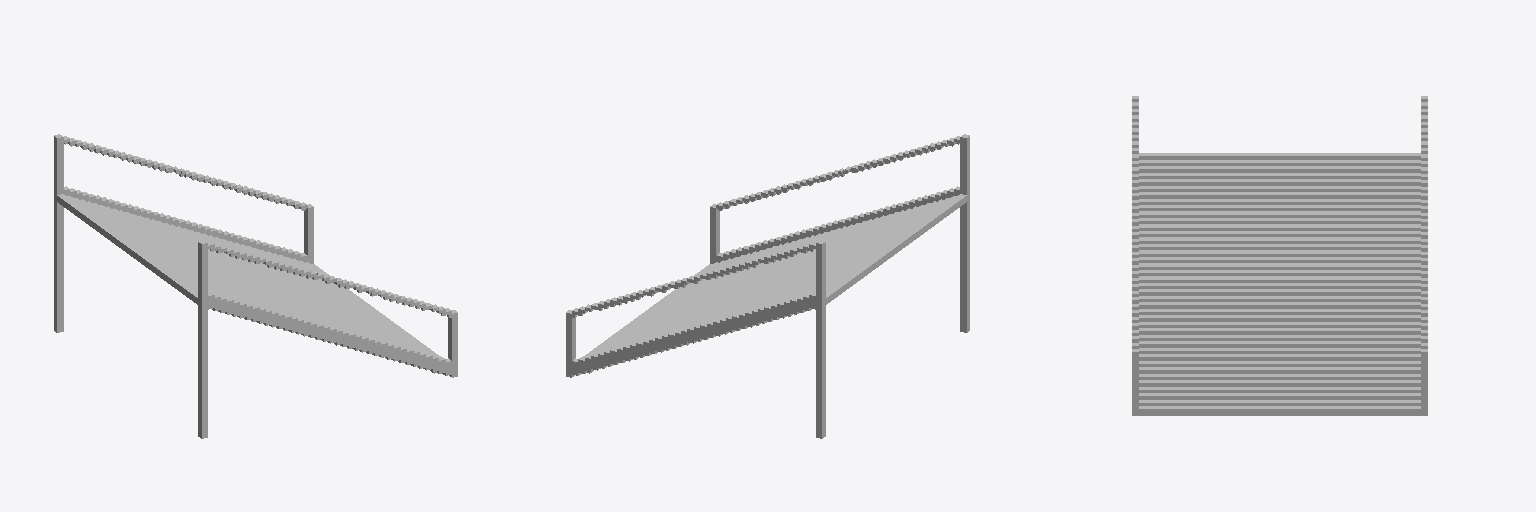
Rendered from Cloud Pedestal-5.obj.
The picture shows the model from 3 angles: view 1: azimuth 30°, elevation 25°; view 2: azimuth 150°, elevation 25°; view 3: azimuth 270°, elevation 25°; orthographic projection.
Parts seen in each view (by area): view 1: object 1; view 2: object 1; view 3: object 1.
Part boxes in pixels (left/top/right/bottom): object 1: left=54, top=134, right=457, bottom=438; object 1: left=566, top=134, right=969, bottom=438; object 1: left=1132, top=96, right=1427, bottom=415.
Size of the model in its own units: 8 by 5.8 by 8.